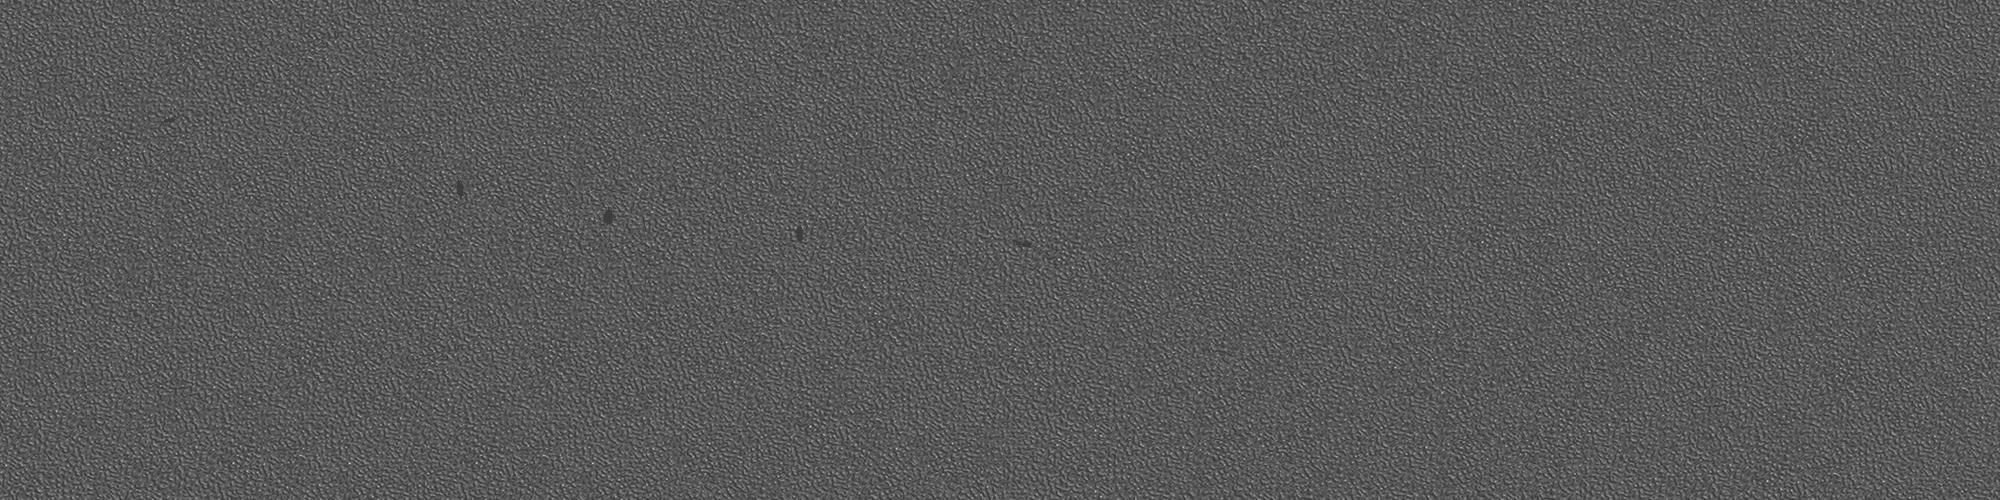Decomposed: (450, 176, 473, 208), (1008, 231, 1031, 254), (154, 114, 182, 129), (792, 221, 812, 241), (603, 205, 617, 230)
